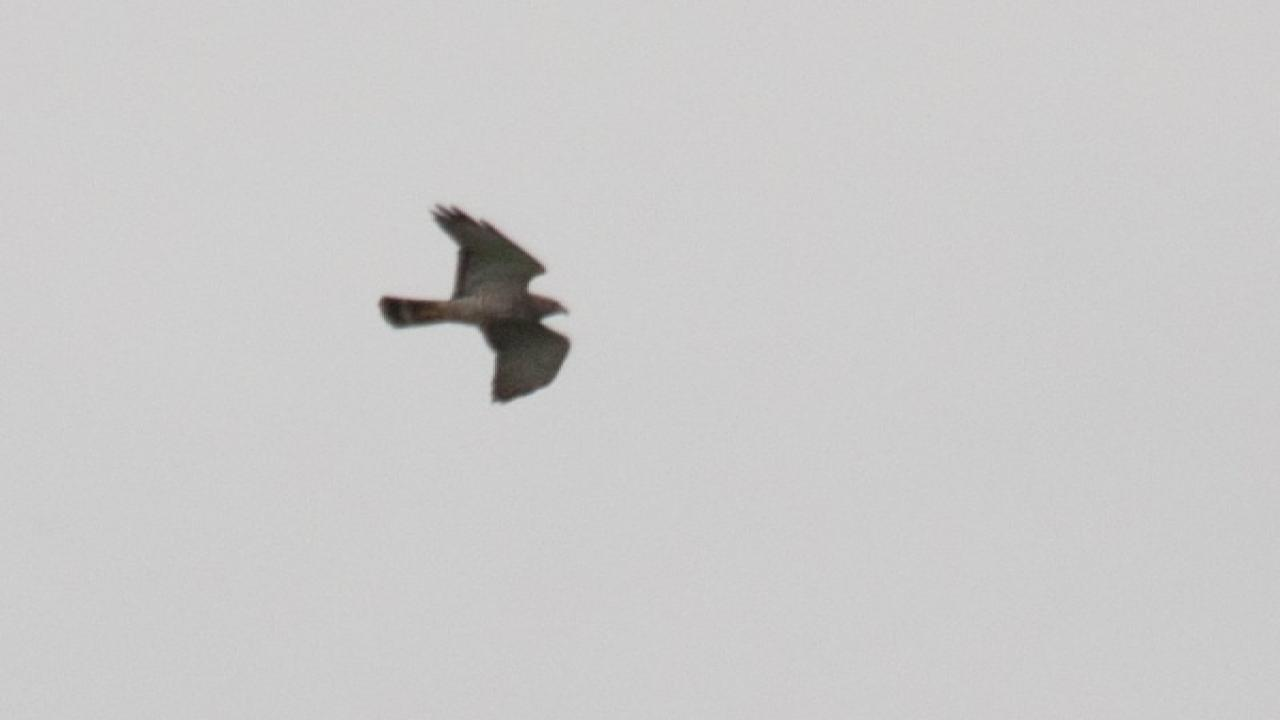Bird: (364, 194, 591, 412)
